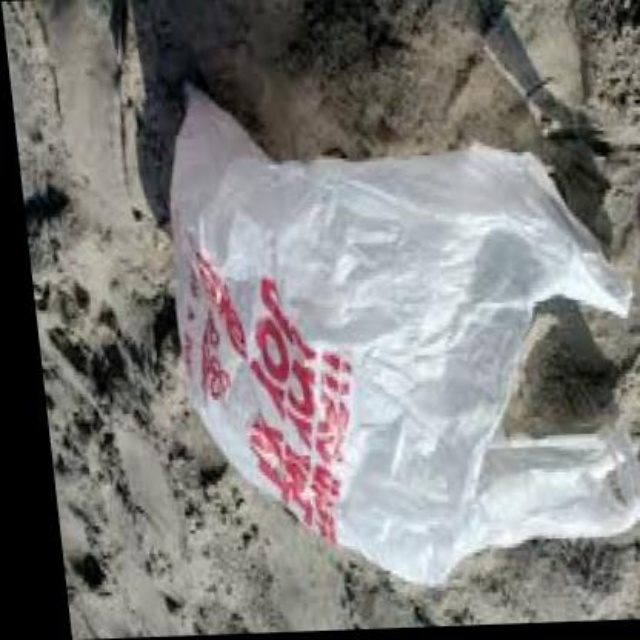trash: (172, 88, 638, 583)
